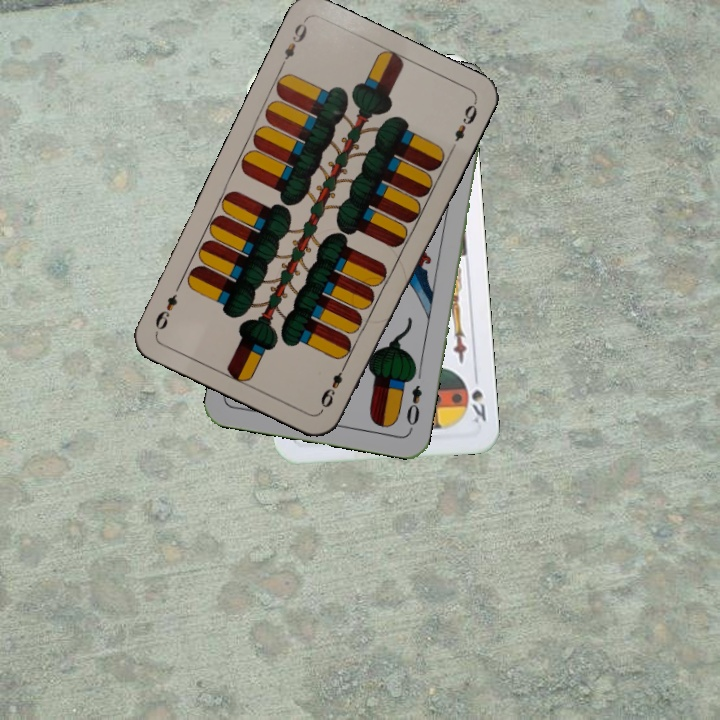E9: (316, 358, 350, 413), (276, 17, 310, 72)
EO: (402, 381, 425, 433)
SK: (467, 385, 489, 425)
